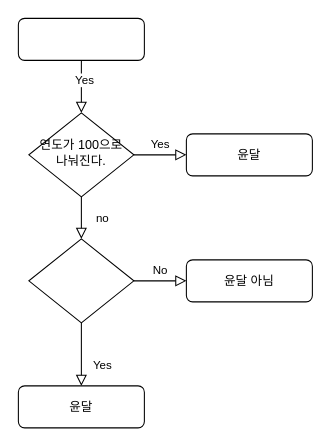
The diagram is 331 pixels wide and 446 high, and some of its shapes have lost their labels. The centre of each missing label's shape, as x and y in pixels:
연도가 400으로 나눠진다.: the point at 81,280
연도가 4로 나눠진다.: the point at 80,38
